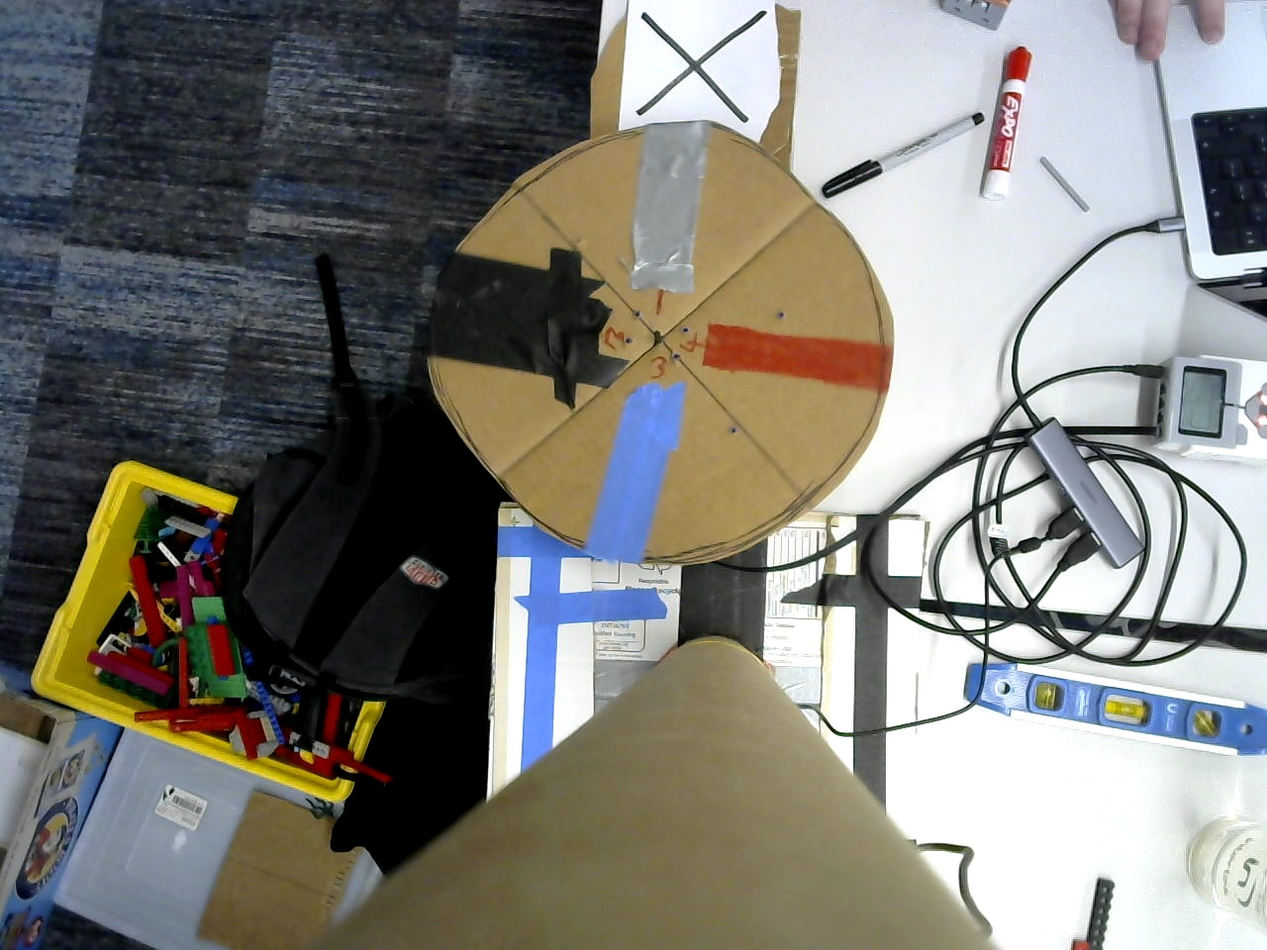black: (1197, 112, 1267, 248)
blue: (584, 383, 685, 563)
red: (703, 323, 889, 390)
silver: (630, 124, 709, 292)
x: (634, 6, 768, 122)
